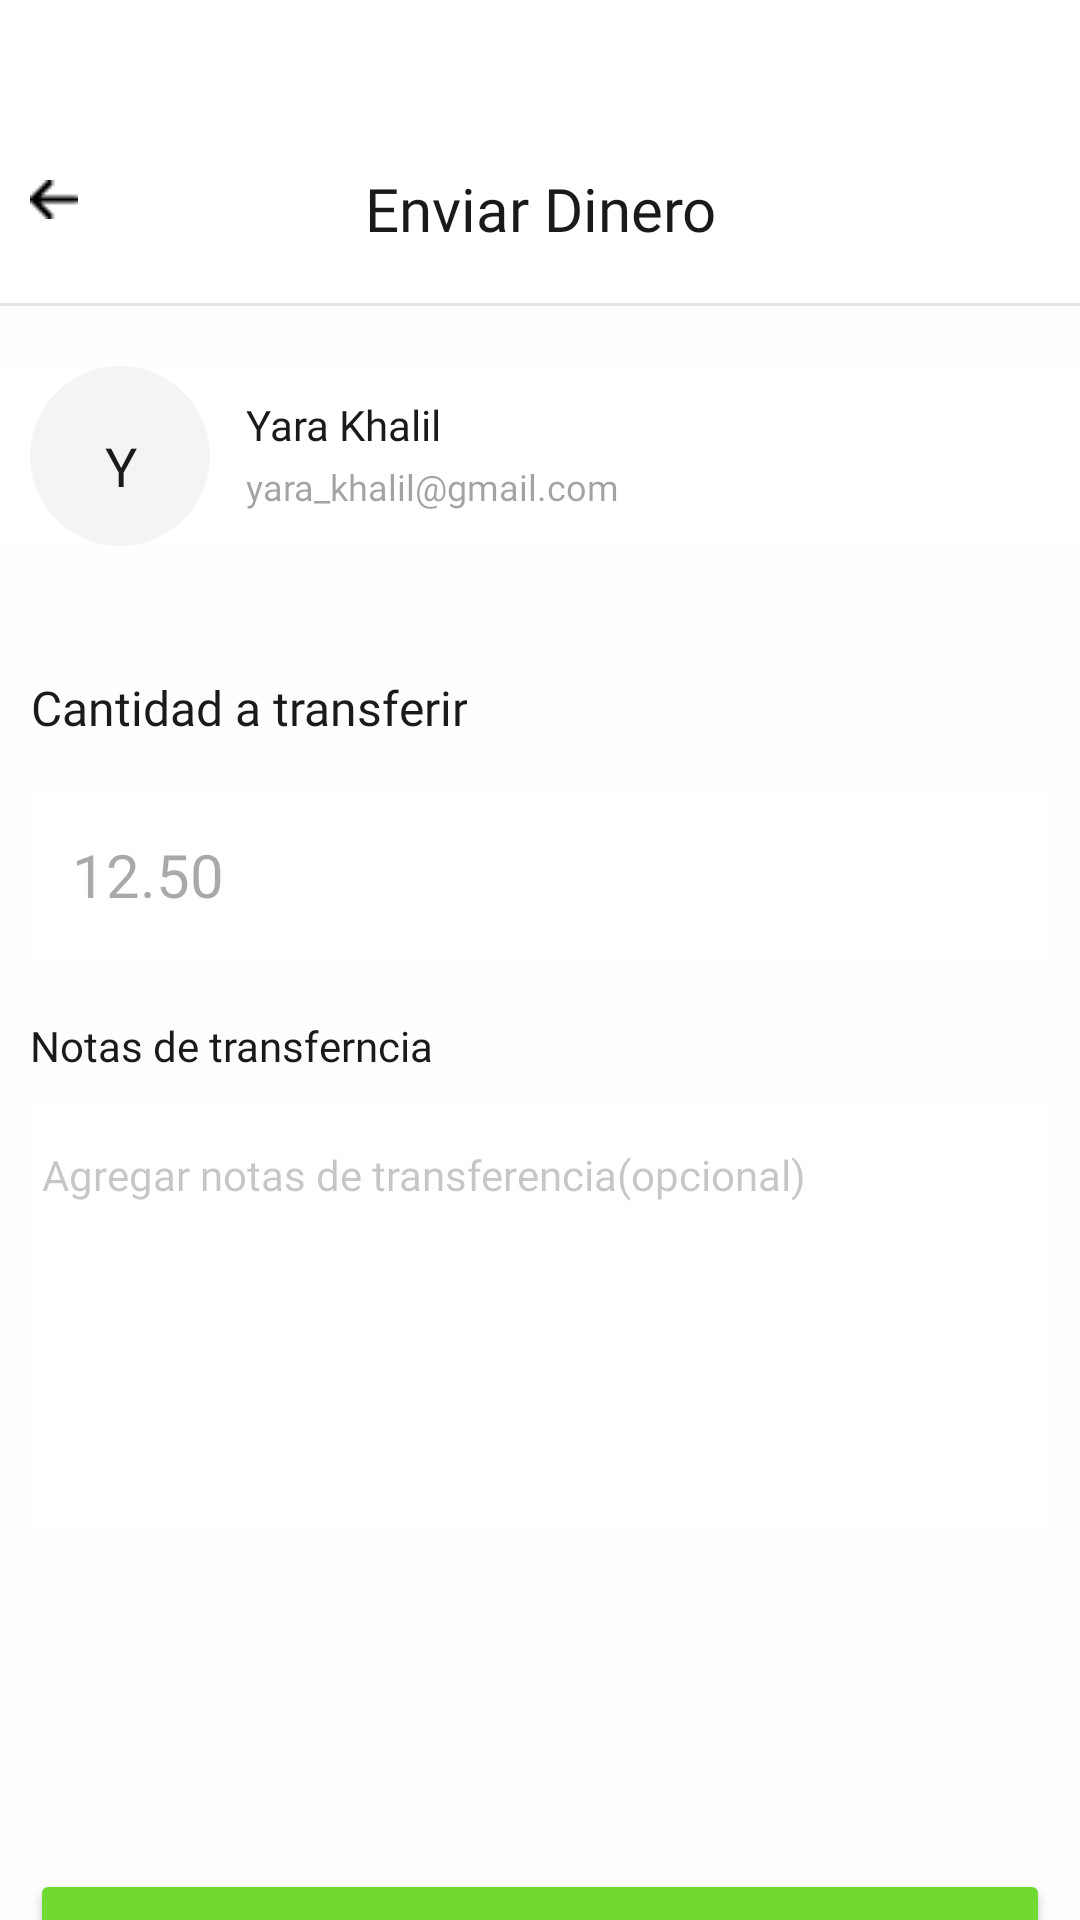

Screen size 1080*1920. Icon name, then its center in pixels as (x,y):
left: (54,199)
